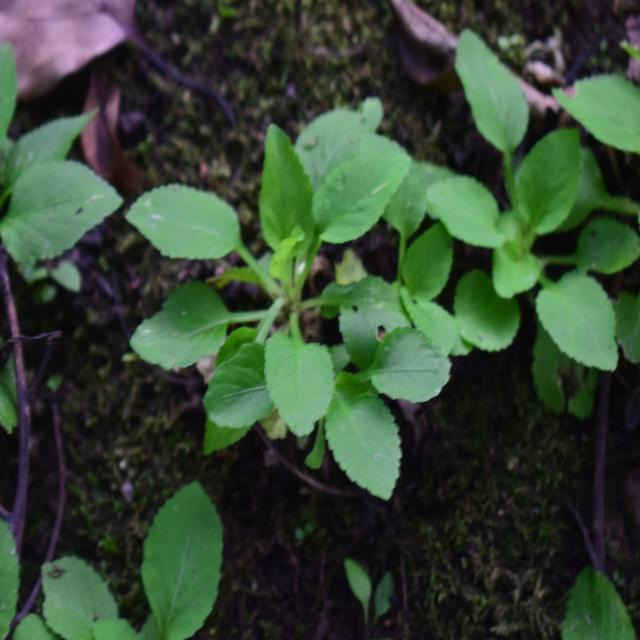Viola: (125, 89, 456, 484)
